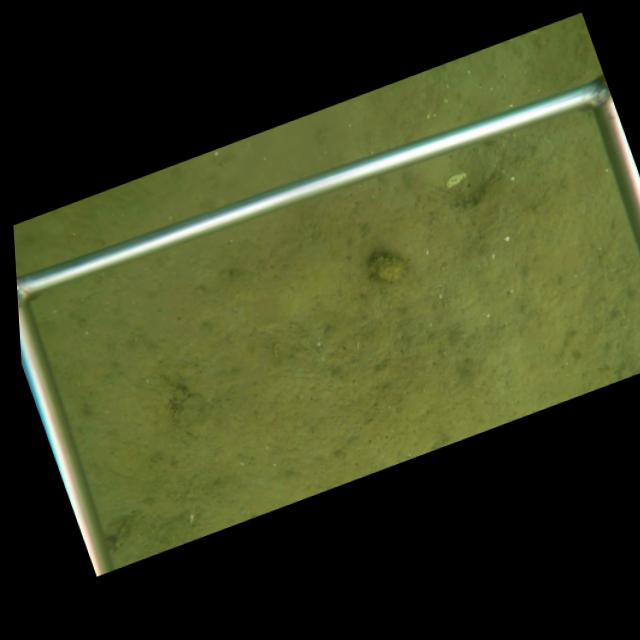Oyster-Indeterminate: (364, 253, 411, 283)
